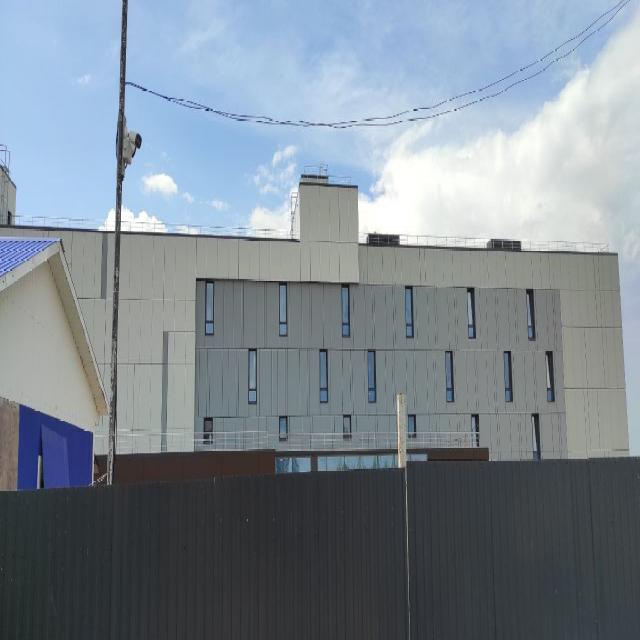Building: (0, 164, 631, 486)
